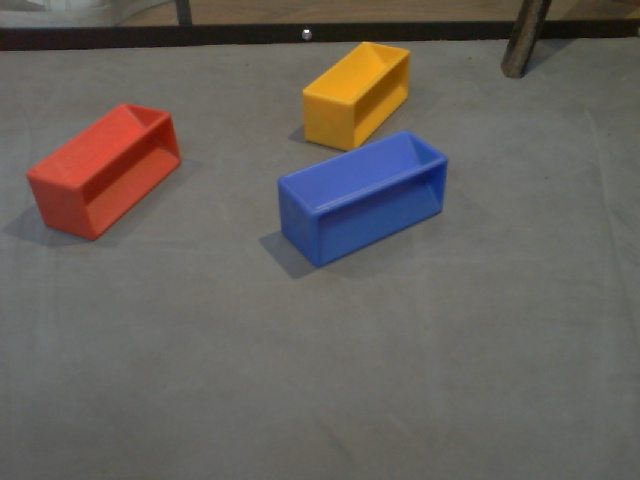BlueSample: (272, 128, 451, 271)
RedSample: (24, 102, 183, 246)
YellowSample: (299, 40, 412, 152)
